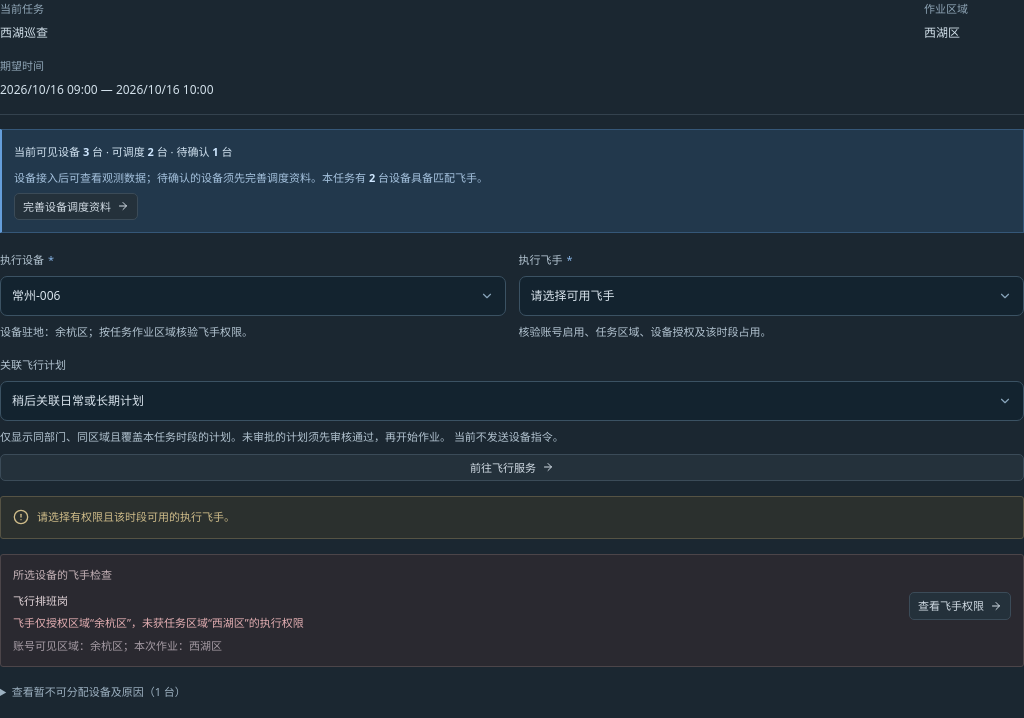
it: 任务分配以服务端规则和设备飞手组合为准 › 仅有效组合可提交，带上计划和办理说明，后端失败显示原始原因
Click the dropdown named "执行飞手*": (573, 295) 518,276 -> 1023,316
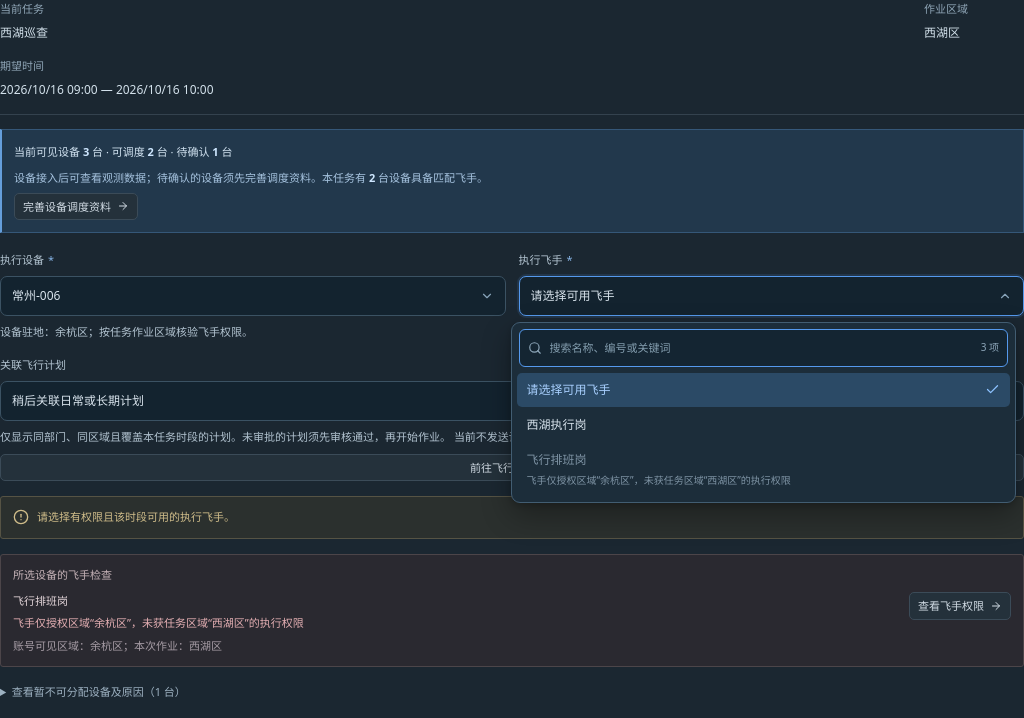
Click the option "西湖执行岗": (556, 424) 526,416 -> 586,433
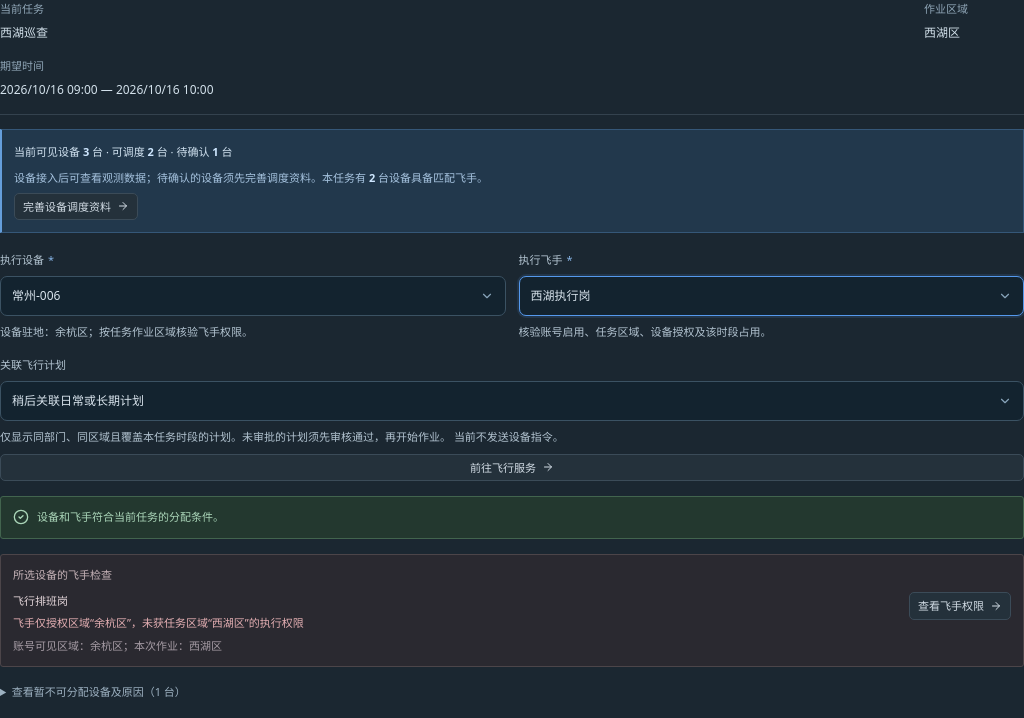
Click the dropdown named "关联飞行计划": (78, 400) 0,381 -> 1023,421
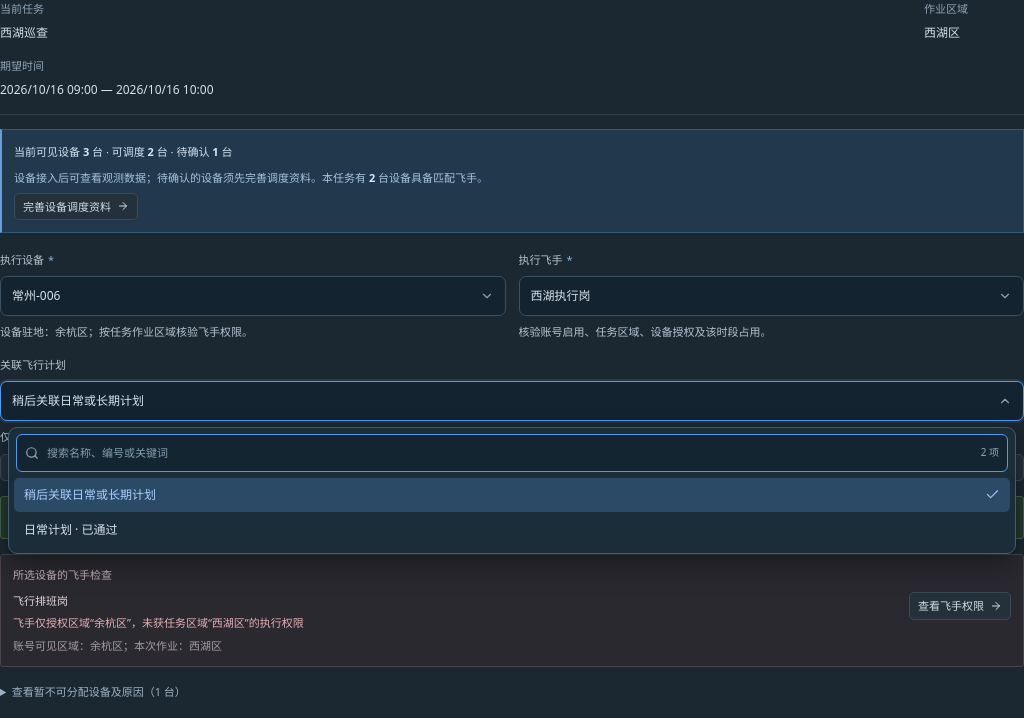
Click the option "日常计划 · 已通过": (71, 529) 24,521 -> 118,538
(page scrolled)
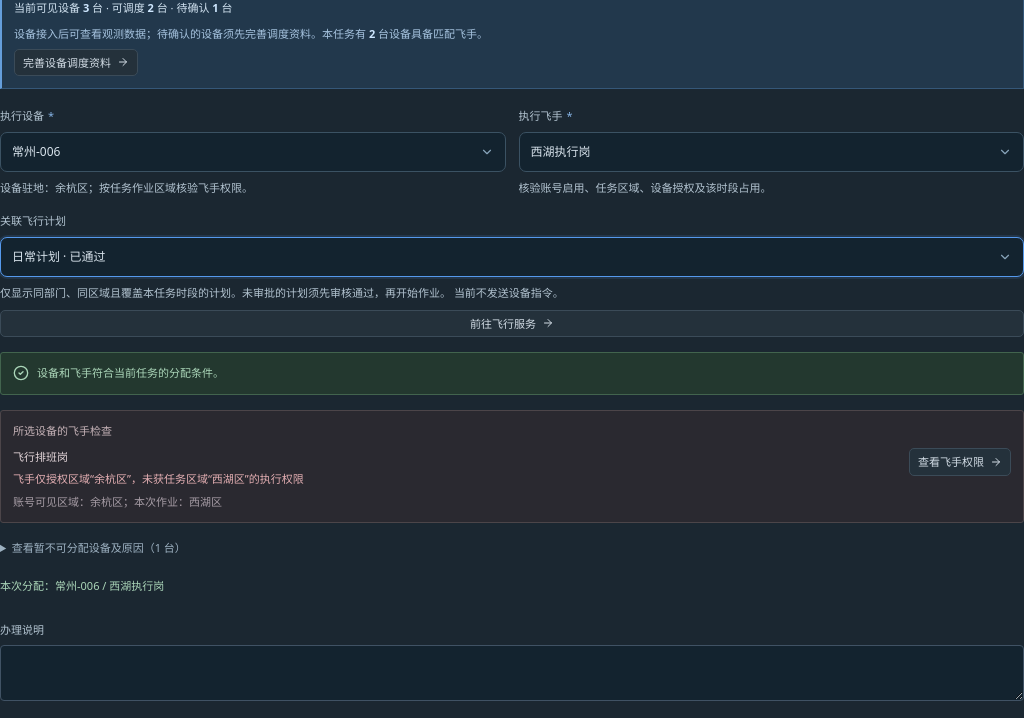
In the text box labelled "办理说明": (512, 673) 0,645 -> 1023,701, type "按计划执行"
(page scrolled)
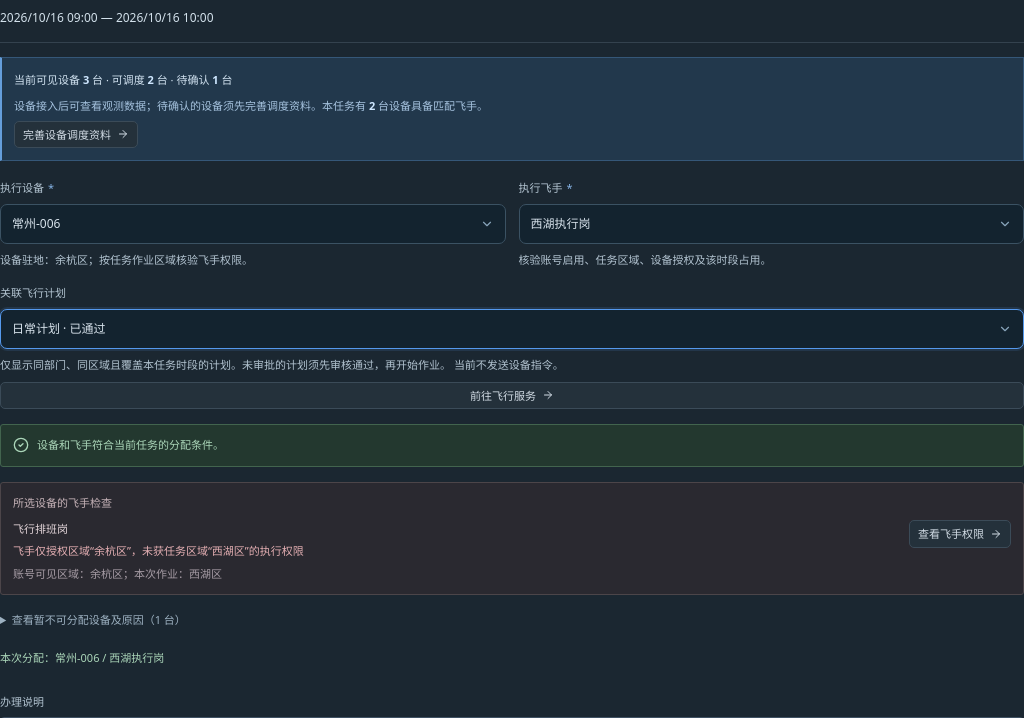
Submit the form with test id "task-assignment-form"
(page scrolled)
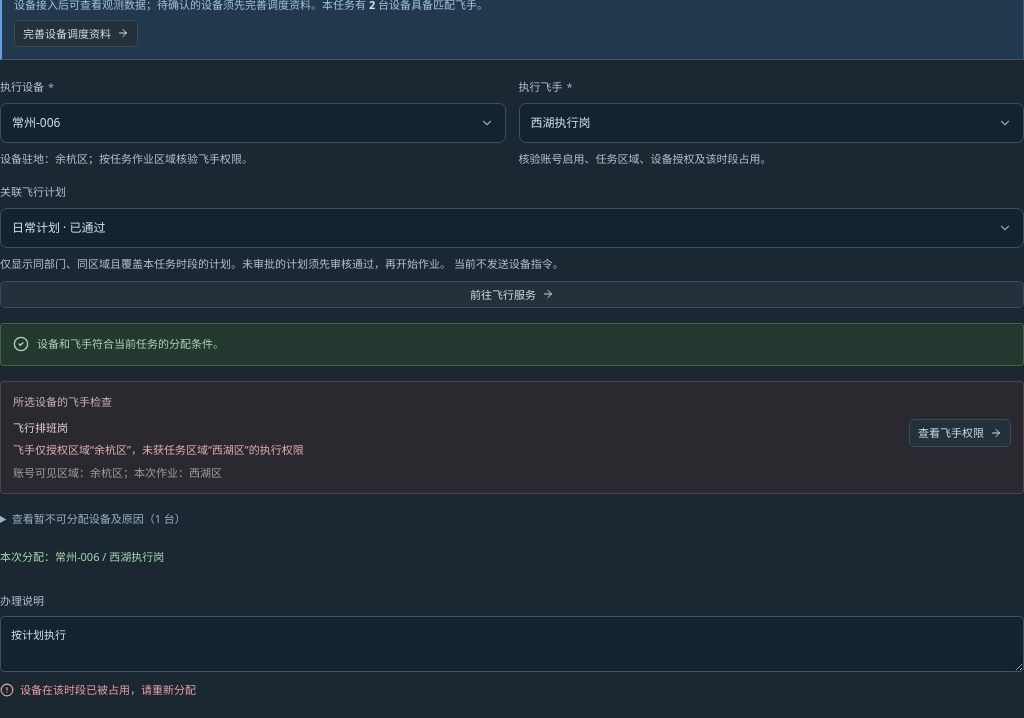
Check: the message "设备在该时段已被占用，请重新分配" is shown, box 0,682 -> 196,697
